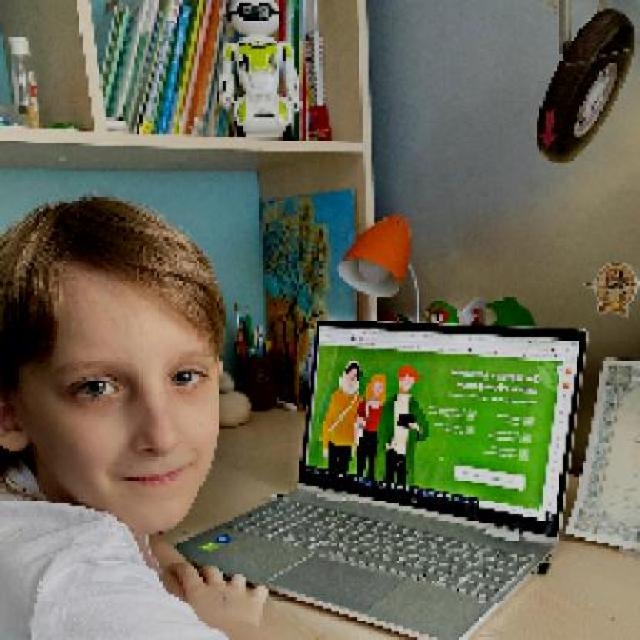child: (2, 194, 268, 637)
